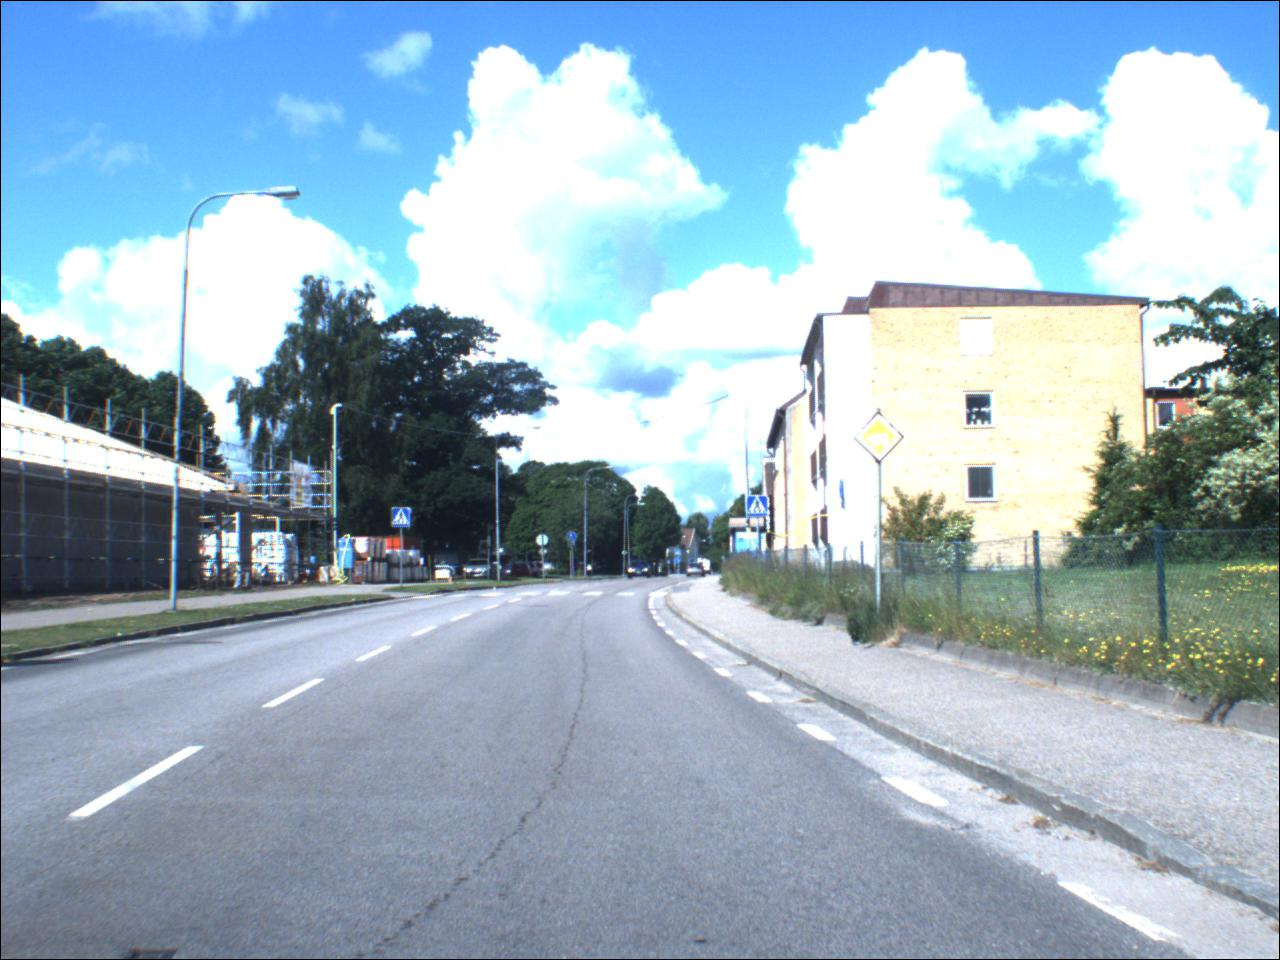PEDESTRIAN_CROSSING: (748, 497, 773, 519), (394, 507, 414, 531)
PRIORITY_ROAD: (855, 410, 911, 467)
